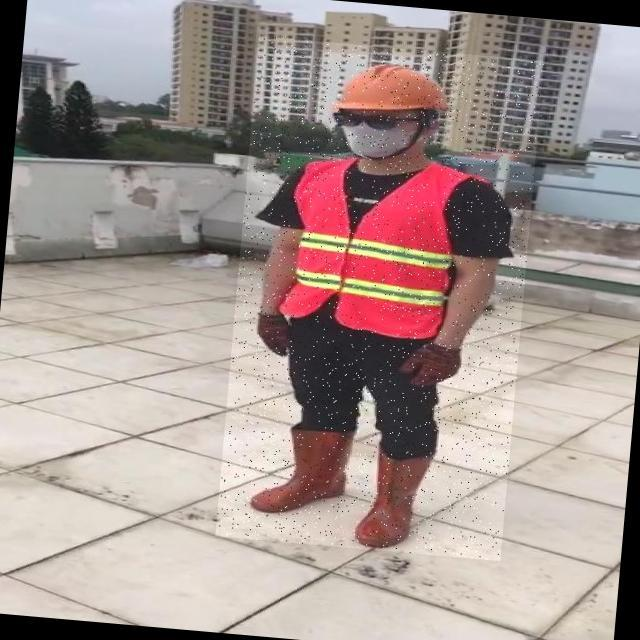Gloves: (395, 338, 463, 388), (251, 314, 295, 358)
Helmet: (326, 55, 452, 121)
Human: (215, 36, 543, 561)
Safety Boot: (252, 423, 353, 520), (354, 447, 435, 552)
Safety Vest: (279, 153, 471, 341)
